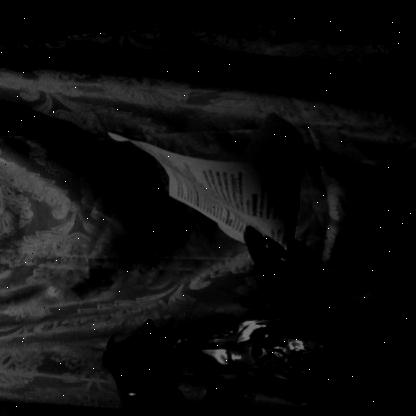Plastic Bottle: (39, 302, 367, 389)
